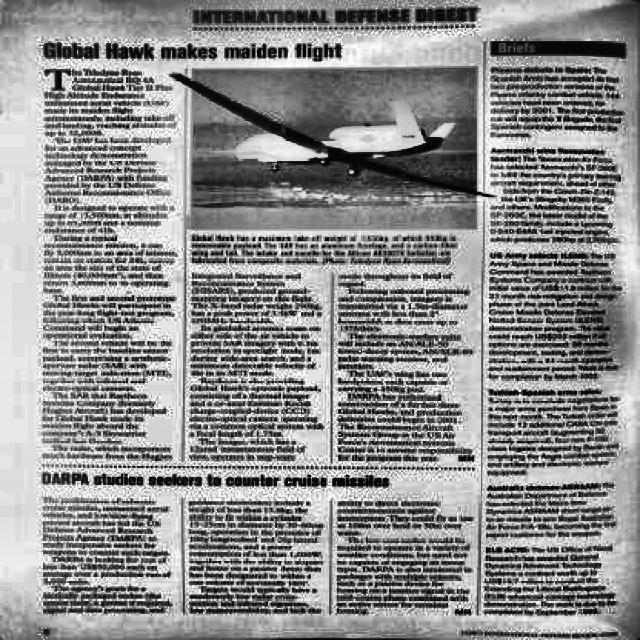RQ4: (168, 73, 498, 198)
